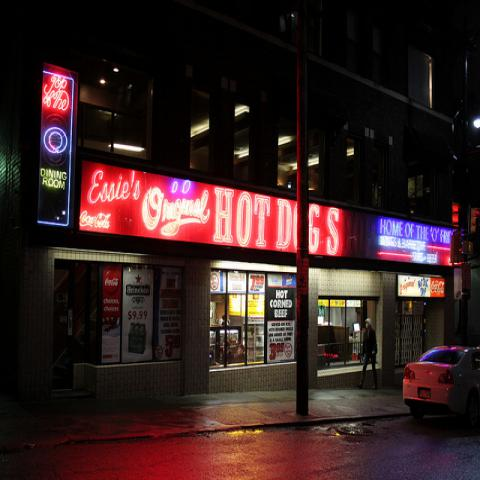car: (402, 343, 479, 425)
